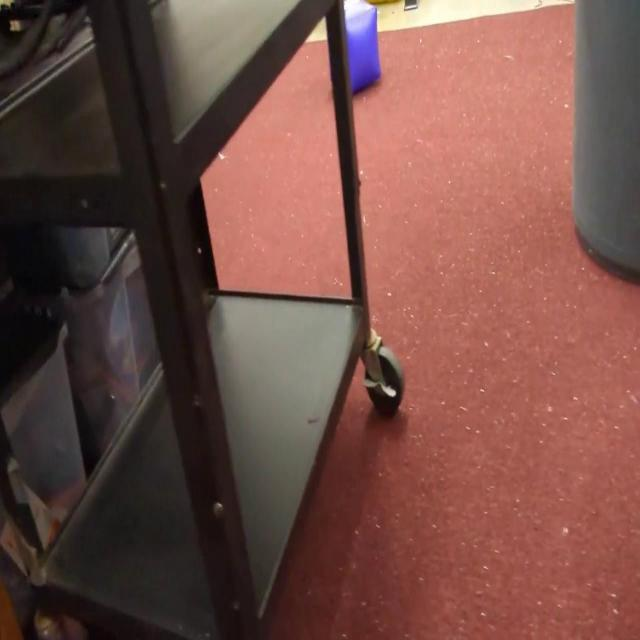frc_cube: (343, 0, 381, 97)
